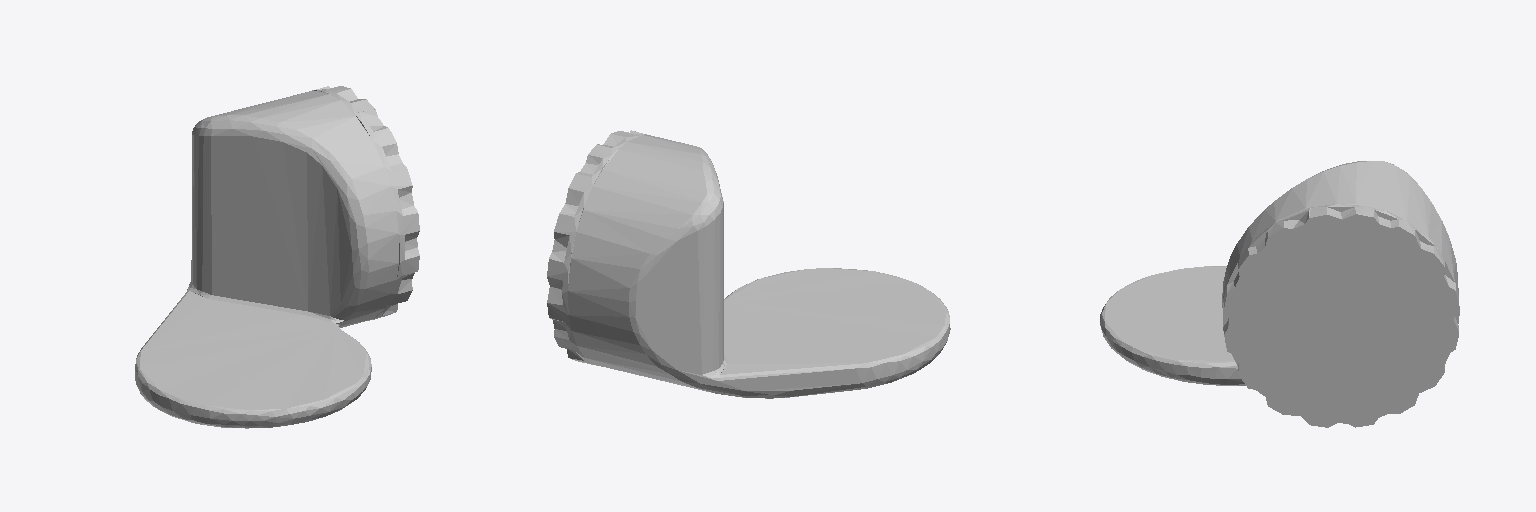
File: m2_1_3_fin.obj
3 renders of one model, left to right at view 1: azimuth 30°, elevation 25°; view 2: azimuth 150°, elevation 25°; view 3: azimuth 270°, elevation 25°, orthographic.
Parts seen in each view (by area): view 1: M2-1-1.001; view 2: M2-1-1.001; view 3: M2-1-1.001.
Part boxes in pixels (x1,y1,x2,y2): M2-1-1.001: (135,86,419,428); M2-1-1.001: (547,130,950,398); M2-1-1.001: (1100,161,1459,427).
Bounding box in the file's own units: 0.053 × 0.04 × 0.0607.